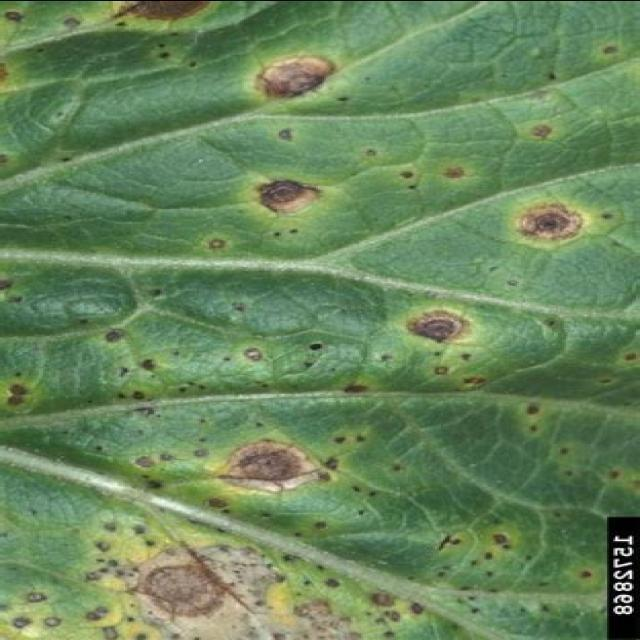Bacterial: (110, 50, 596, 629)
